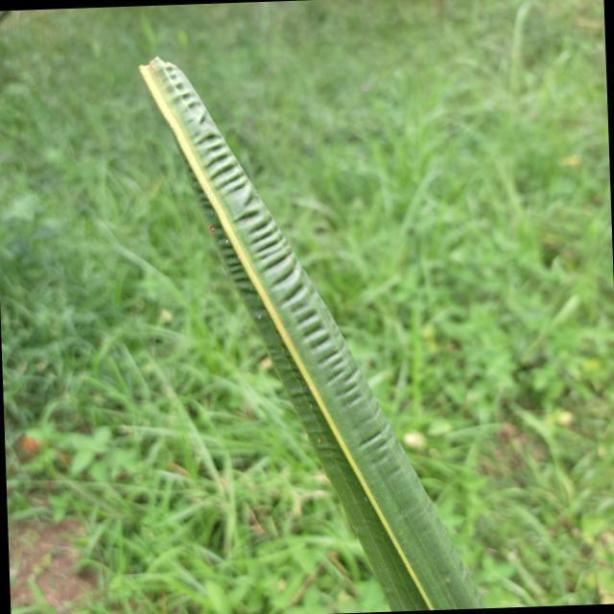Boron: (131, 53, 481, 614)
